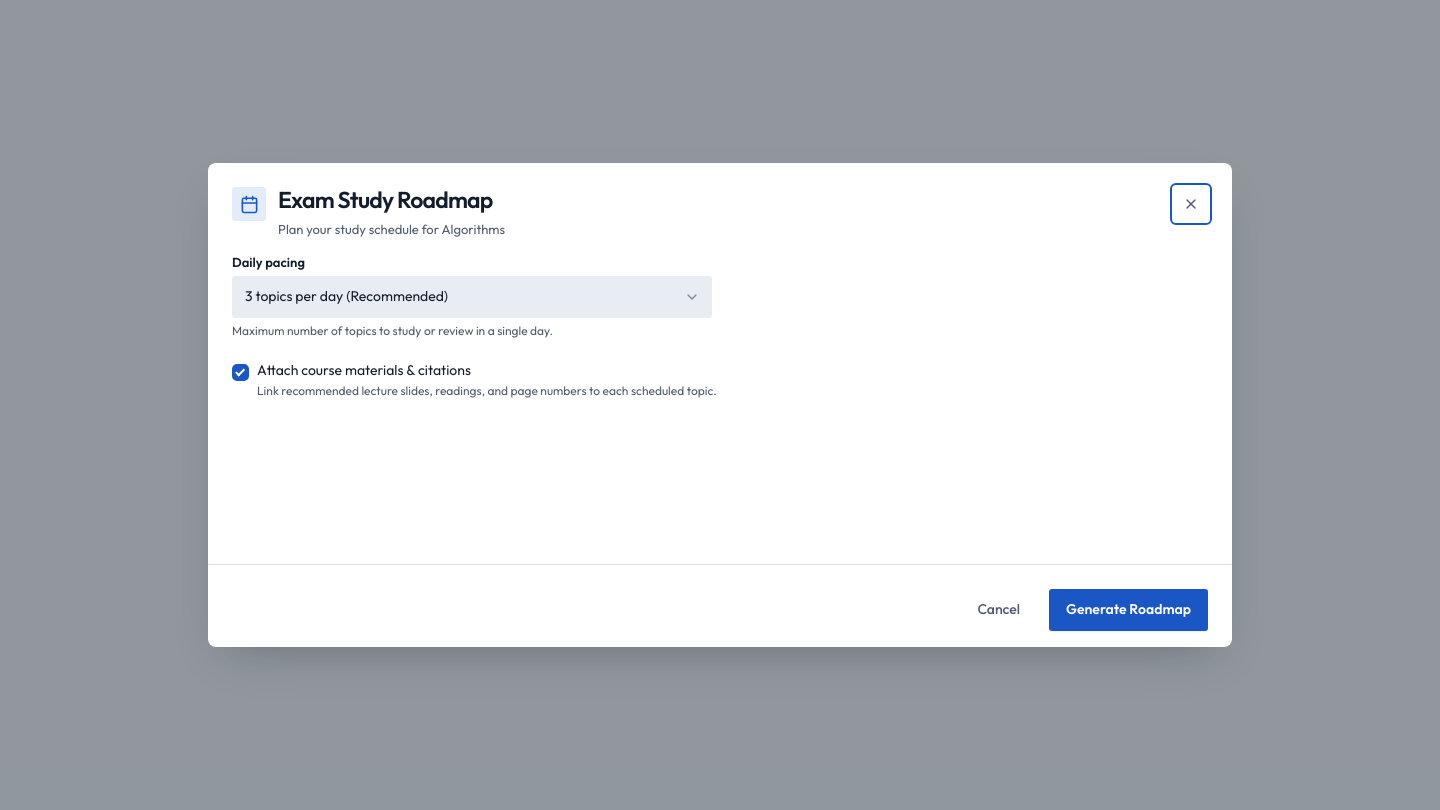
ExamRoadmapModal › displays an error message if generation fails
The image size is (1440, 810).
Click the button "Generate Roadmap" at (1128, 610), box [1049, 589, 1208, 631]
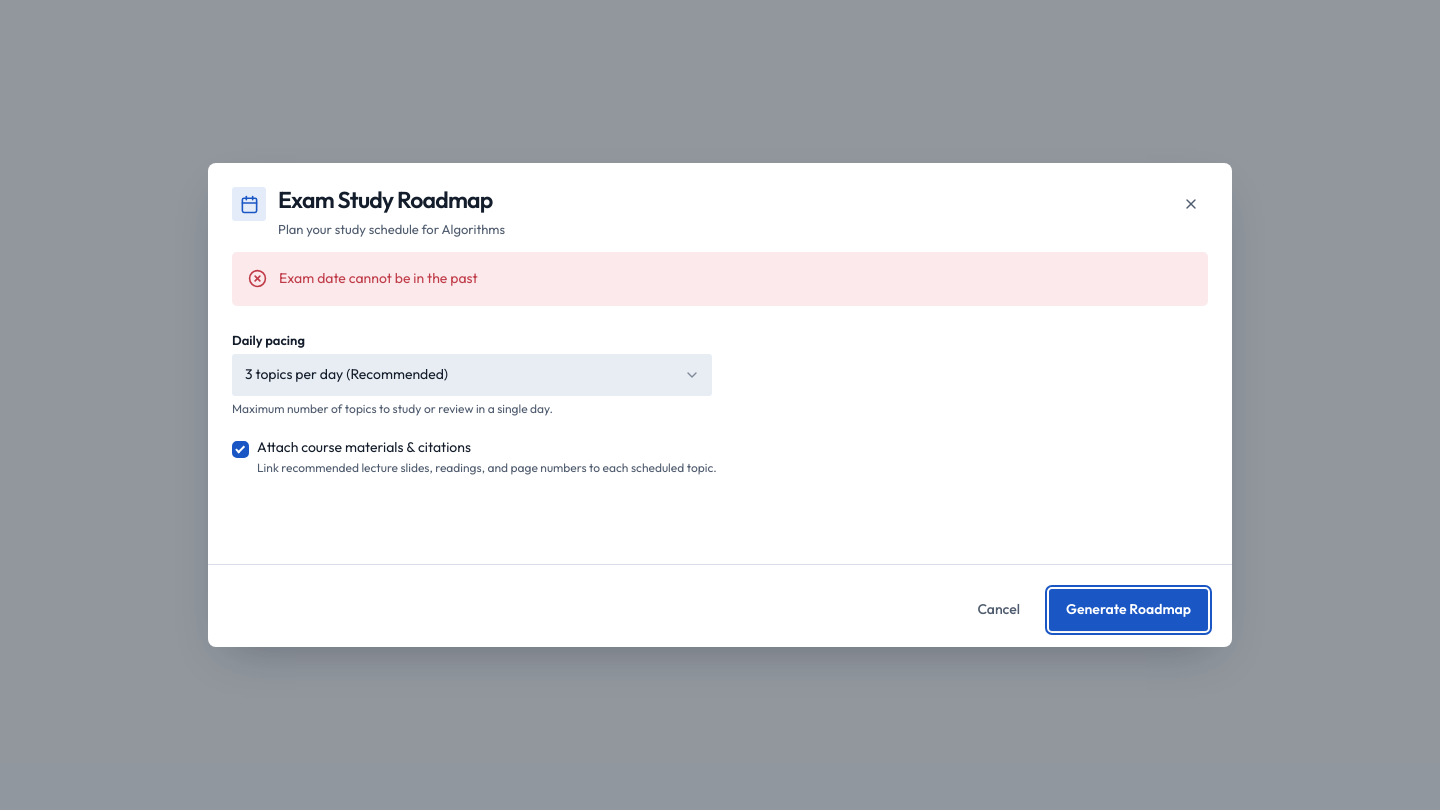
Result: the text "Exam date cannot be in the past" is shown at [279, 269, 478, 287]
